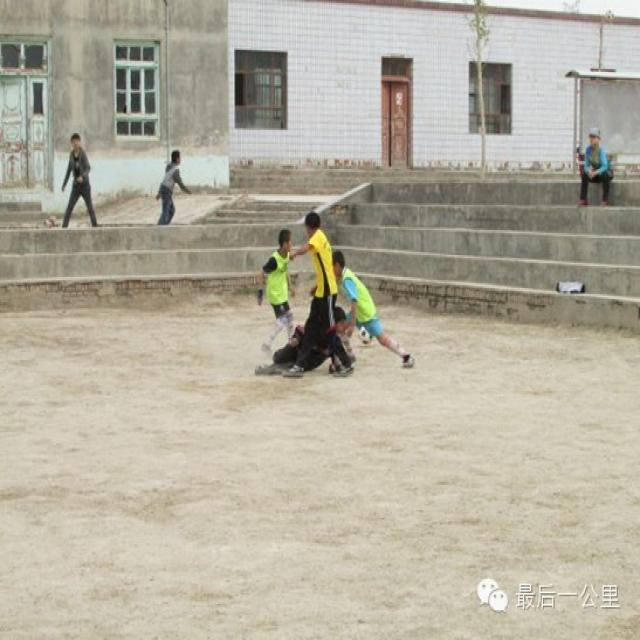fall: (255, 307, 345, 380)
